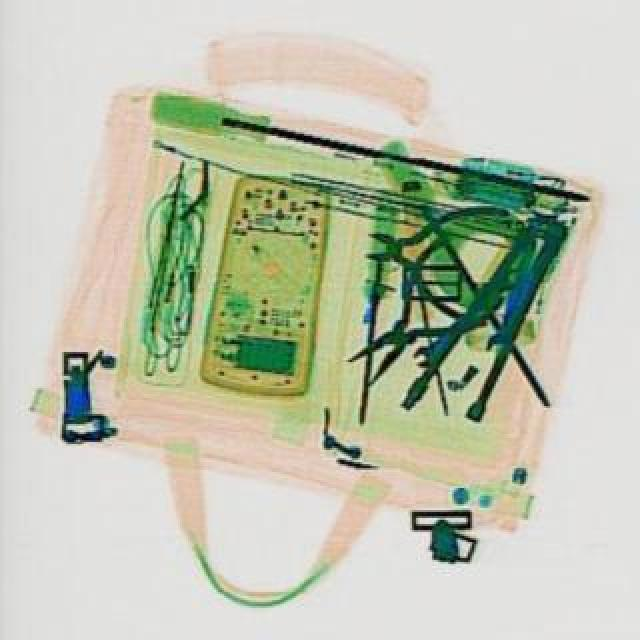wrench: (396, 202, 588, 436), (320, 232, 508, 404), (352, 186, 508, 322)
